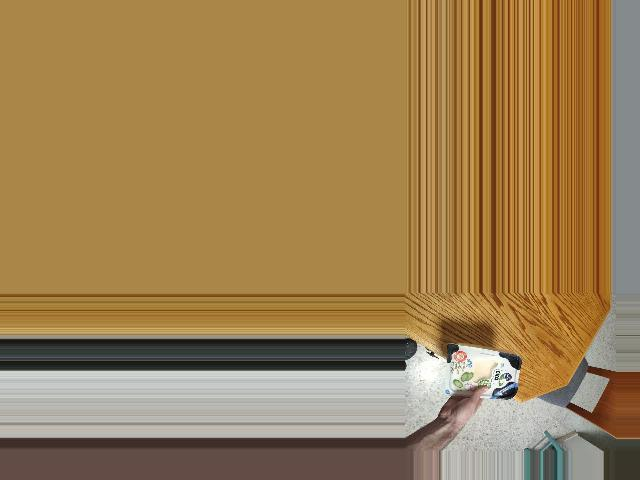cheese: (444, 344, 520, 407)
